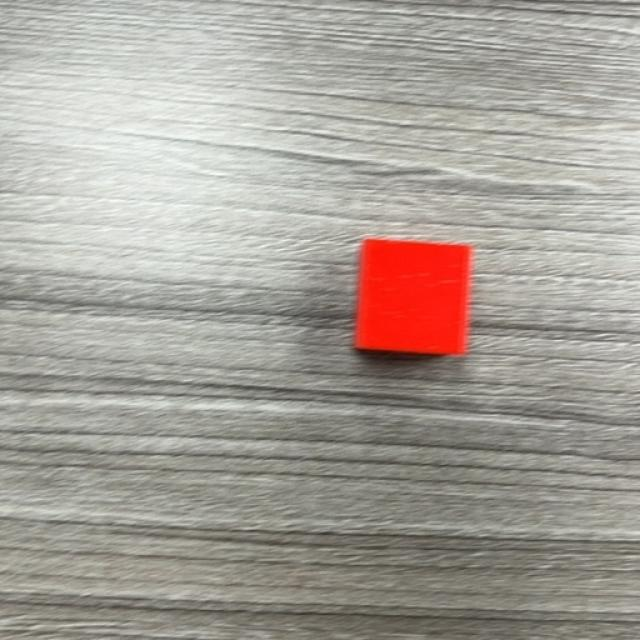Rojo: (356, 238, 475, 358)
